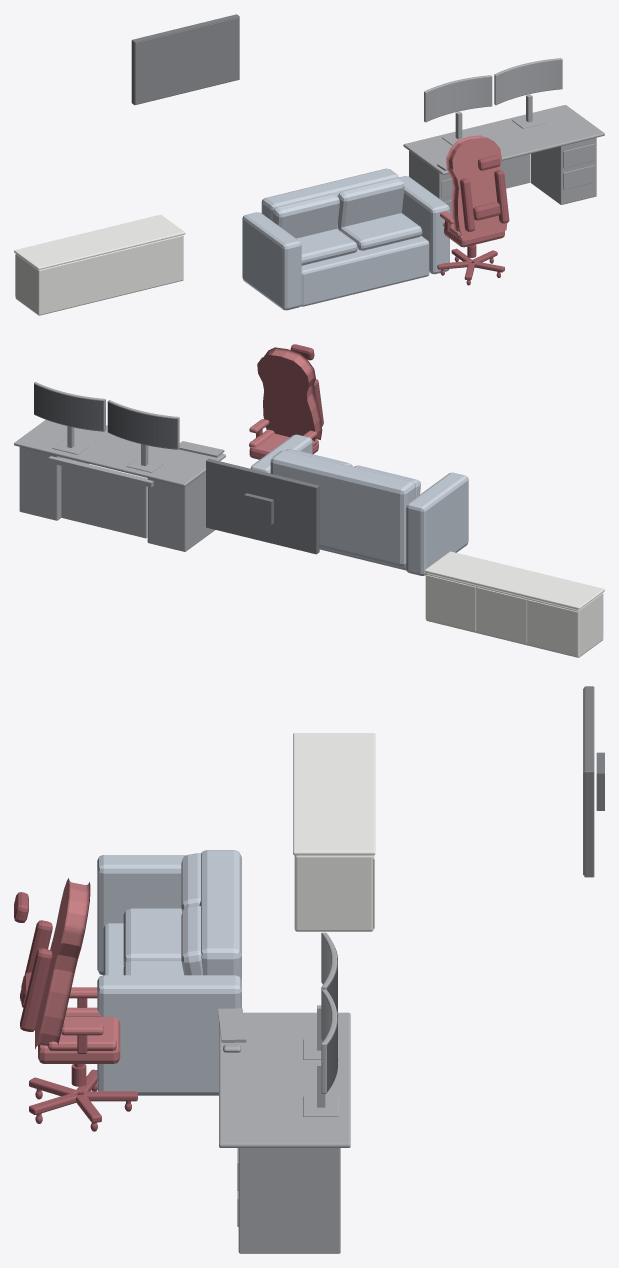
File: agent_scene.glb
3 renders of one model, top to bottom at view 1: azimuth 30°, elevation 25°; view 2: azimuth 150°, elevation 25°; view 3: azimuth 270°, elevation 25°, orthographic. The views are drawn at different scales.
Parts seen in each view (by area): view 1: cab_body, tv_scr, sofa_base, desk_top, sofa_arm.001, cab_top, chair_back, sofa_arm, desk_ped, sofa_bcush, monA, monB (+12 smaller); view 2: sofa_back, tv_body, desk_top, sofa_arm.001, desk_backp, chair_back, cab_top, desk_ped.001, desk_ped, cab_door, cab_door.001, cab_door.002 (+8 smaller); view 3: desk_top, sofa_arm, desk_ped, cab_top, cab_body, sofa_arm.001, sofa_back, chair_back, sofa_seat.001, tv_body, chair_seat, chair_bolster.001 (+7 smaller).
Part boxes in pixels (x1=…): cab_body: x1=15, y1=235, x2=183, y2=315; tv_scr: x1=135, y1=17, x2=239, y2=104; sofa_base: x1=301, y1=236, x2=429, y2=306; desk_top: x1=403, y1=105, x2=604, y2=174; sofa_arm.001: x1=242, y1=212, x2=301, y2=310; cab_top: x1=14, y1=214, x2=185, y2=269; chair_back: x1=446, y1=135, x2=507, y2=240; sofa_arm: x1=399, y1=176, x2=449, y2=274; desk_ped: x1=530, y1=137, x2=596, y2=204; sofa_bcush: x1=338, y1=178, x2=404, y2=230; monA: x1=424, y1=75, x2=492, y2=122; monB: x1=494, y1=58, x2=562, y2=105; sofa_back: x1=270, y1=450, x2=415, y2=566; tv_body: x1=206, y1=458, x2=319, y2=554; desk_top: x1=14, y1=420, x2=225, y2=486; sofa_arm.001: x1=406, y1=472, x2=468, y2=575; desk_backp: x1=61, y1=458, x2=147, y2=538; chair_back: x1=257, y1=347, x2=322, y2=441; cab_top: x1=424, y1=551, x2=604, y2=609; desk_ped.001: x1=147, y1=472, x2=214, y2=551; desk_ped: x1=19, y1=447, x2=88, y2=520; cab_door: x1=527, y1=599, x2=578, y2=656; cab_door.001: x1=476, y1=587, x2=527, y2=643; cab_door.002: x1=425, y1=574, x2=476, y2=631; desk_top: x1=219, y1=1012, x2=350, y2=1147; sofa_arm: x1=97, y1=975, x2=241, y2=1095; desk_ped: x1=238, y1=1148, x2=340, y2=1253; cab_top: x1=293, y1=733, x2=375, y2=855; cab_body: x1=294, y1=855, x2=373, y2=931; sofa_arm.001: x1=97, y1=855, x2=187, y2=975; sofa_back: x1=199, y1=850, x2=241, y2=980; chair_back: x1=35, y1=878, x2=90, y2=1049; sofa_seat.001: x1=123, y1=908, x2=182, y2=965; tv_body: x1=584, y1=686, x2=594, y2=877; chair_seat: x1=38, y1=1016, x2=120, y2=1063; chair_bolster.001: x1=20, y1=948, x2=52, y2=1031.
Size of the model in its own units: 6.36 by 1.85 by 3.59.
